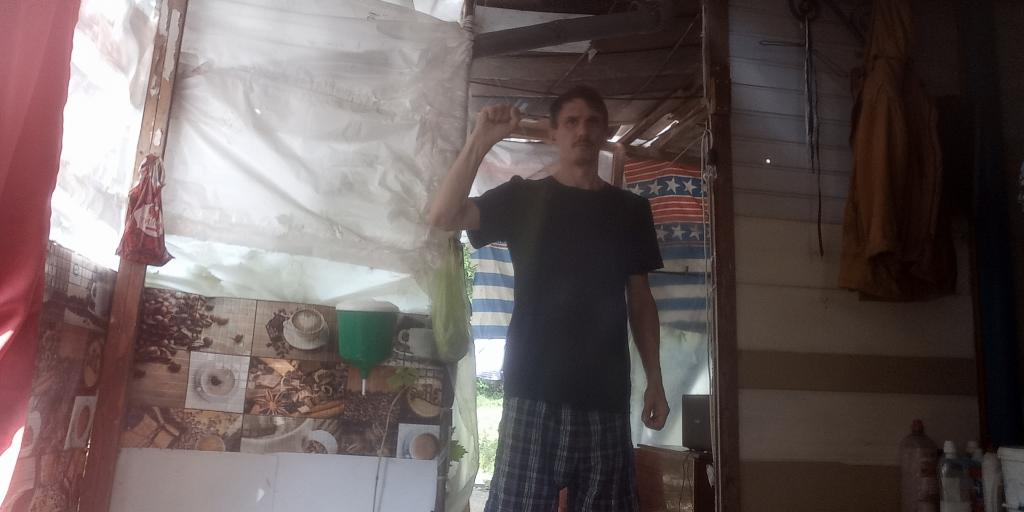fist: (472, 99, 522, 144)
no_gesture: (637, 382, 670, 433)
